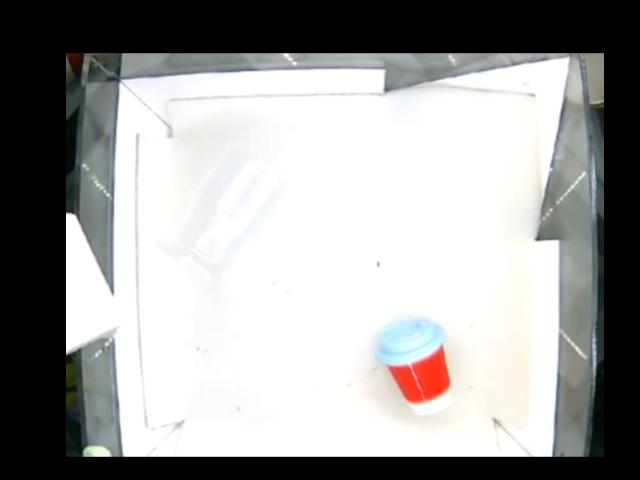Bottle: (159, 150, 287, 279)
Cup: (378, 318, 453, 413)
